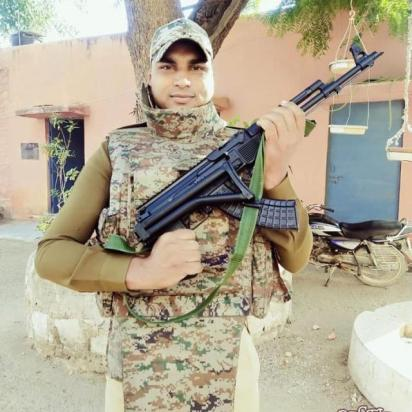Gun: (132, 41, 386, 283)
